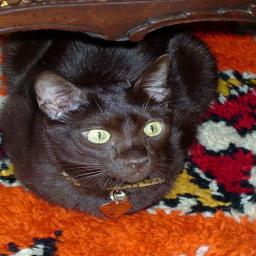catnose: (123, 155, 153, 173)
